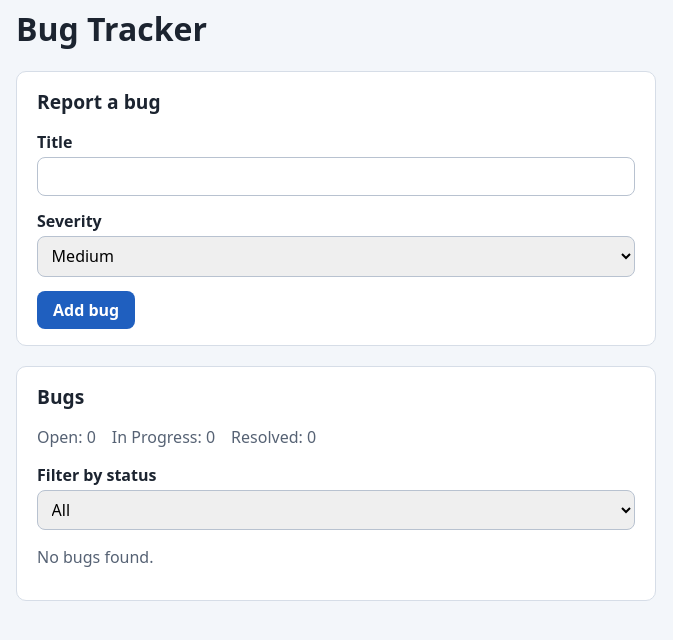
Test: Bug Tracker › filters bugs by status
The width and height of the screenshot is (673, 640).
Type "Checkout page crashes" into the field labelled "Title". click: (336, 177)
box: [37,157,635,196]
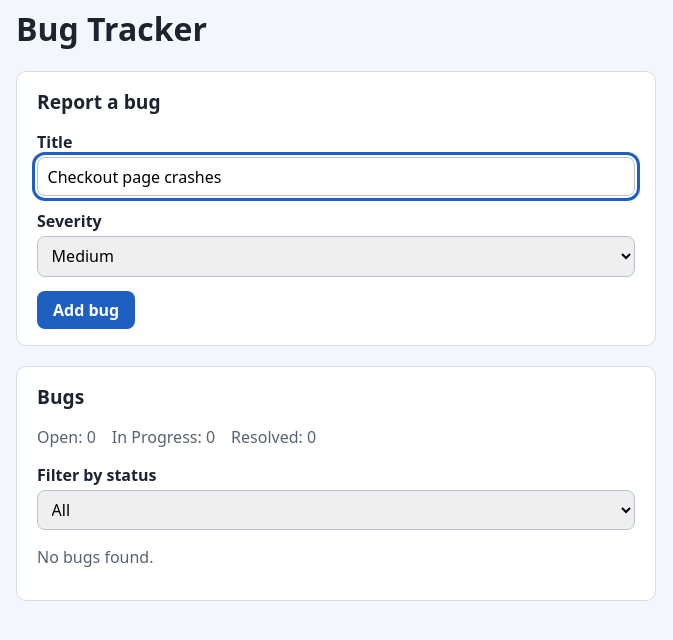
Click the button "Add bug". click: (86, 310)
box: [37,291,135,329]
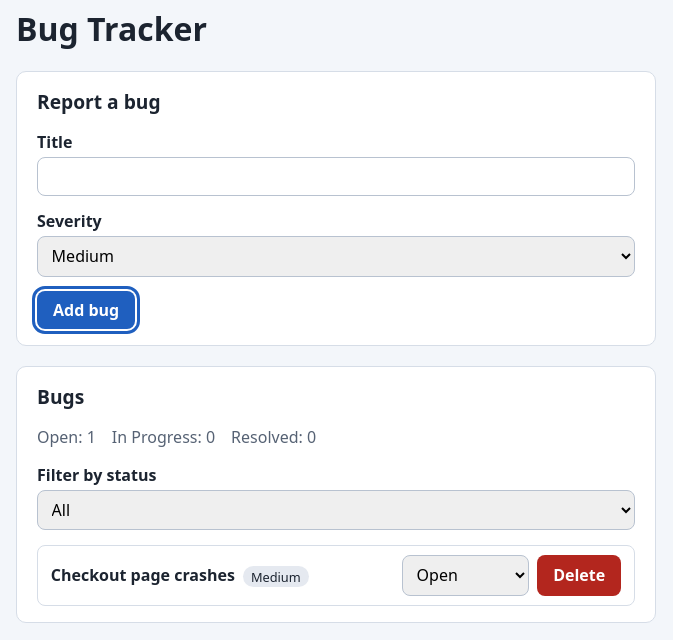
Select "Resolved" in the dropdown named "Status for Checkout page crashes". click: (466, 575)
box: [402,555,529,596]
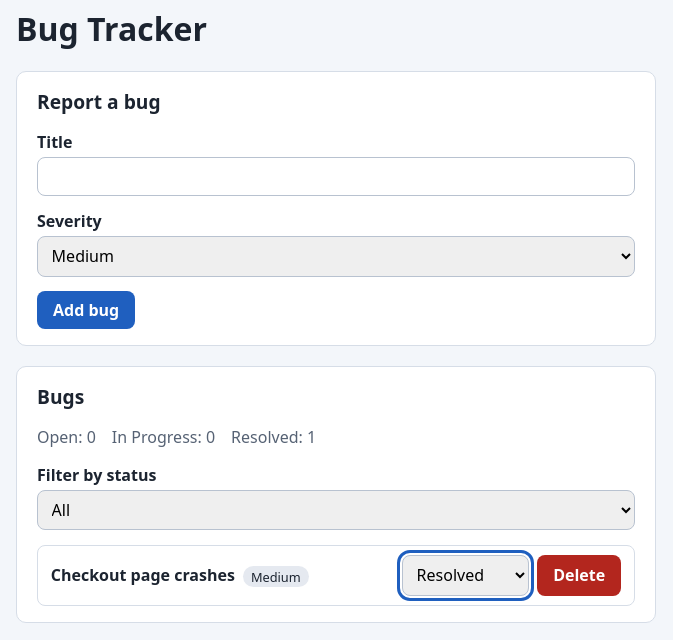
Select "Open" in the dropdown labelled "Filter by status". click: (336, 510)
box: [37,490,635,530]
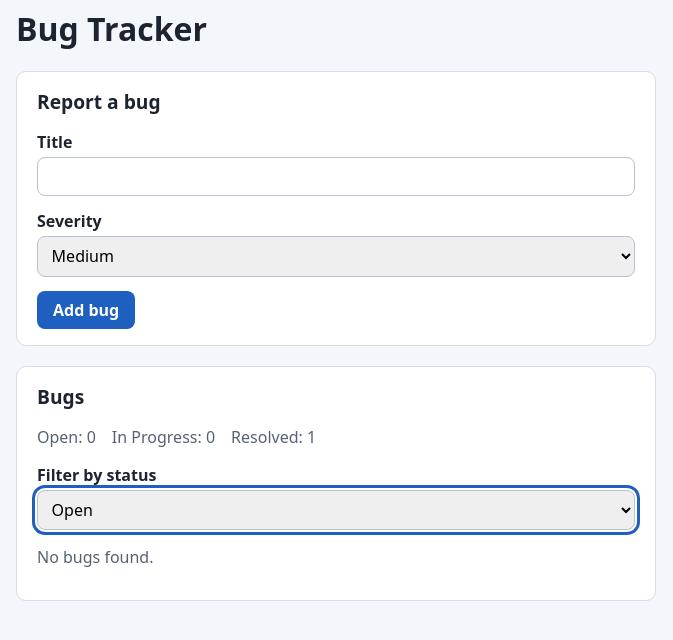
Result: the text "No bugs found." is shown at [37,546,154,568]
